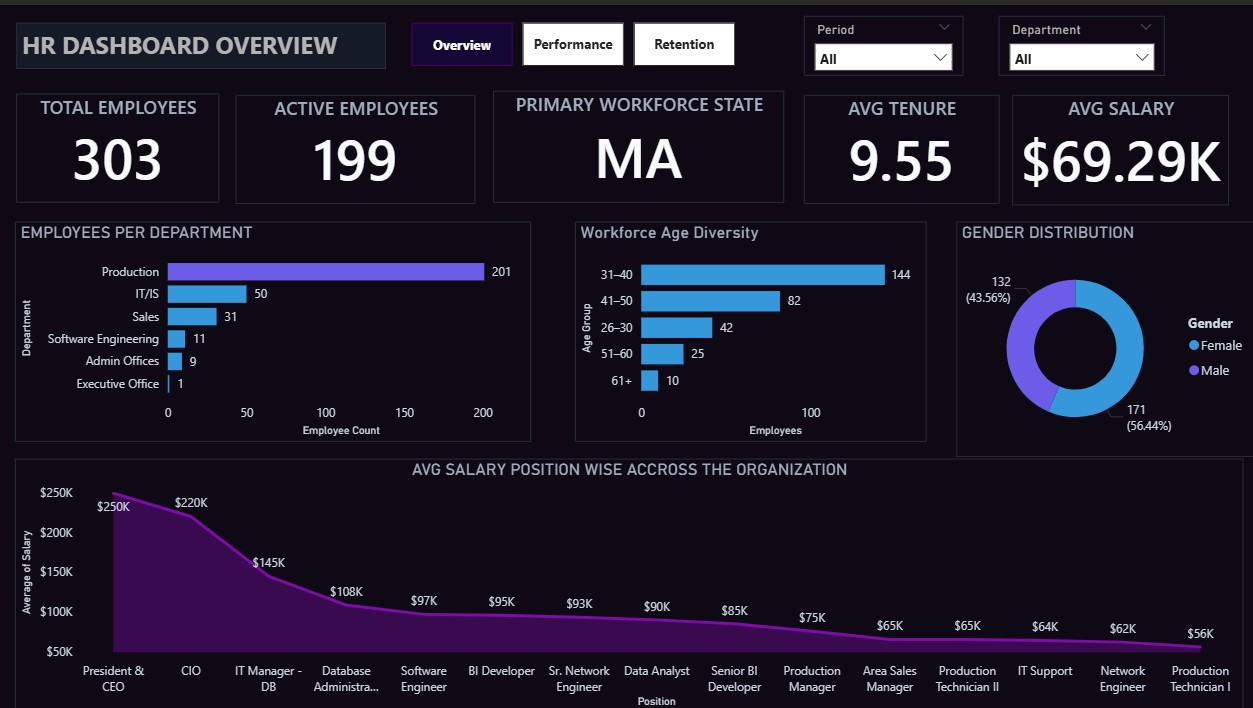

Layout of this report page (visuals, bound fields, positions):
{"tool":"powerbi","page":{"name":"Overview","canvas":[1280,720],"ordinal":0},"visuals":[{"type":"card","title":"TOTAL EMPLOYEES","fields":{"Values":["Worksheet.Total Employees"]},"box":[16.6,90.1,206.5,110.8],"z":0},{"type":"card","title":"ACTIVE EMPLOYEES","fields":{"Values":["Worksheet.Active Employees"]},"box":[239.1,91.1,243.5,110.6],"z":1000},{"type":"card","title":"AVG SALARY","fields":{"Values":["Worksheet.Average Salary"]},"box":[1029.5,91.4,220.3,112.2],"z":3000},{"type":"card","title":"AVG TENURE","fields":{"Values":["Worksheet.Average Tenure"]},"box":[817.3,91.1,198.7,110.6],"z":4000},{"type":"clusteredBarChart","title":"EMPLOYEES PER DEPARTMENT","fields":{"Y":["Count(Worksheet.EmpID)"],"Category":["Worksheet.Department"]},"box":[14.9,219.6,524.4,224.1],"z":5000},{"type":"donutChart","title":"GENDER DISTRIBUTION","fields":{"Y":["CountNonNull(Worksheet.Sex)"],"Category":["Worksheet.Sex"]},"box":[972.6,219.6,307.8,239.1],"z":6000},{"type":"clusteredBarChart","title":"Workforce Age Diversity","fields":{"Category":["Worksheet.Age Group"],"Y":["Count(Worksheet.EmpID)"]},"box":[584.2,219.6,357.1,224.1],"z":9000},{"type":"textbox","box":[16.6,18,375.5,47.1],"z":10000},{"type":"slicer","fields":{"Values":["Worksheet.DateofHire.Variation.Date Hierarchy.Year"]},"box":[817.5,11.1,162.1,61],"z":11000},{"type":"slicer","fields":{"Values":["Worksheet.Department"]},"box":[1015.6,11.1,169,61],"z":12000},{"type":"areaChart","title":"AVG SALARY POSITION WISE ACCROSS THE ORGANIZATION","fields":{"Category":["Worksheet.Position"],"Y":["Avg(Worksheet.Salary)"]},"box":[14.9,461.7,1249,258.5],"z":13001},{"type":"card","title":"PRIMARY WORKFORCE STATE","fields":{"Values":["Worksheet.Top Hiring State"]},"box":[502,86.7,295.8,113.5],"z":13002},{"type":"pageNavigator","box":[418.4,18,329.8,44.3],"z":13003}]}

Visuals, with their boxes in screenshot pixels (x1, y1, x2, y2), scaled from the page's 1280x720 canvas onto the 1253x708 screenshot:
"TOTAL EMPLOYEES" card: rect(16, 89, 218, 198)
"ACTIVE EMPLOYEES" card: rect(234, 90, 472, 198)
"AVG SALARY" card: rect(1008, 90, 1223, 200)
"AVG TENURE" card: rect(800, 90, 995, 198)
"EMPLOYEES PER DEPARTMENT" clusteredBarChart: rect(15, 216, 528, 436)
"GENDER DISTRIBUTION" donutChart: rect(952, 216, 1252, 451)
"Workforce Age Diversity" clusteredBarChart: rect(572, 216, 921, 436)
textbox: rect(16, 18, 384, 64)
slicer - Worksheet.DateofHire.Variation.Date Hierarchy.Year: rect(800, 11, 959, 71)
slicer - Worksheet.Department: rect(994, 11, 1160, 71)
"AVG SALARY POSITION WISE ACCROSS THE ORGANIZATION" areaChart: rect(15, 454, 1237, 707)
"PRIMARY WORKFORCE STATE" card: rect(491, 85, 781, 197)
pageNavigator: rect(410, 18, 732, 61)
